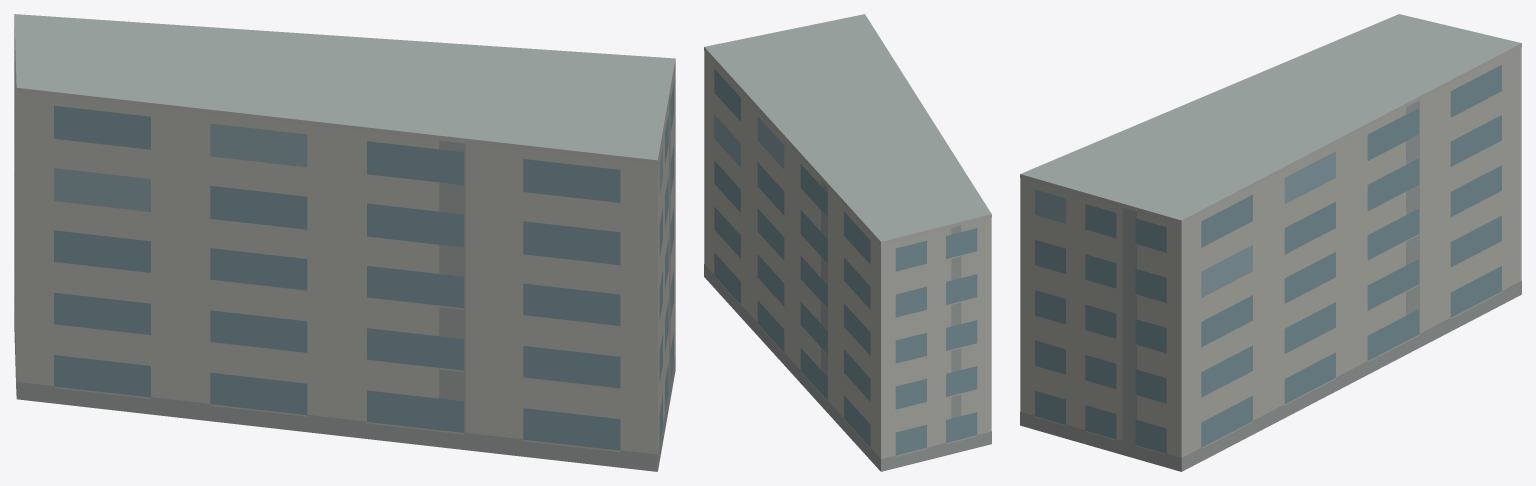
The model's file is residential-f5d74c6b-eda3-45b1-b7ce-9a8aec08a846.glb.
3 renders of one model, left to right at view 1: azimuth 30°, elevation 25°; view 2: azimuth 150°, elevation 25°; view 3: azimuth 270°, elevation 25°, orthographic. The views are drawn at different scales.
Visible parts, largest first — view 1: residential-f5d74c6b-eda3-45b1-b7ce-9a8aec08a846.tmp; view 2: residential-f5d74c6b-eda3-45b1-b7ce-9a8aec08a846.tmp; view 3: residential-f5d74c6b-eda3-45b1-b7ce-9a8aec08a846.tmp.
Part boxes in pixels (x1,y1,x2,y2): residential-f5d74c6b-eda3-45b1-b7ce-9a8aec08a846.tmp: (14,14,675,471); residential-f5d74c6b-eda3-45b1-b7ce-9a8aec08a846.tmp: (704,14,991,471); residential-f5d74c6b-eda3-45b1-b7ce-9a8aec08a846.tmp: (1020,14,1521,471).
Bounding box in the file's own units: 26.86 × 15.25 × 27.58.
